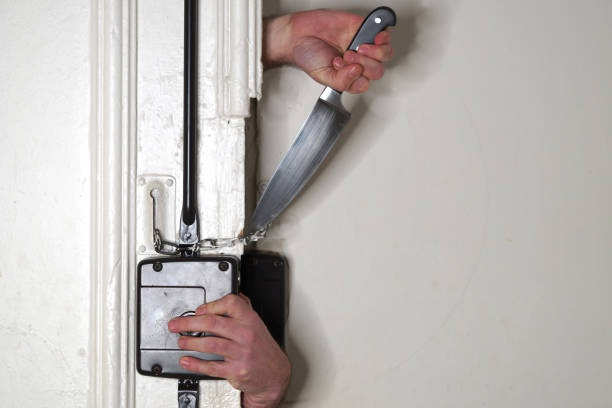knife: (241, 4, 400, 249)
